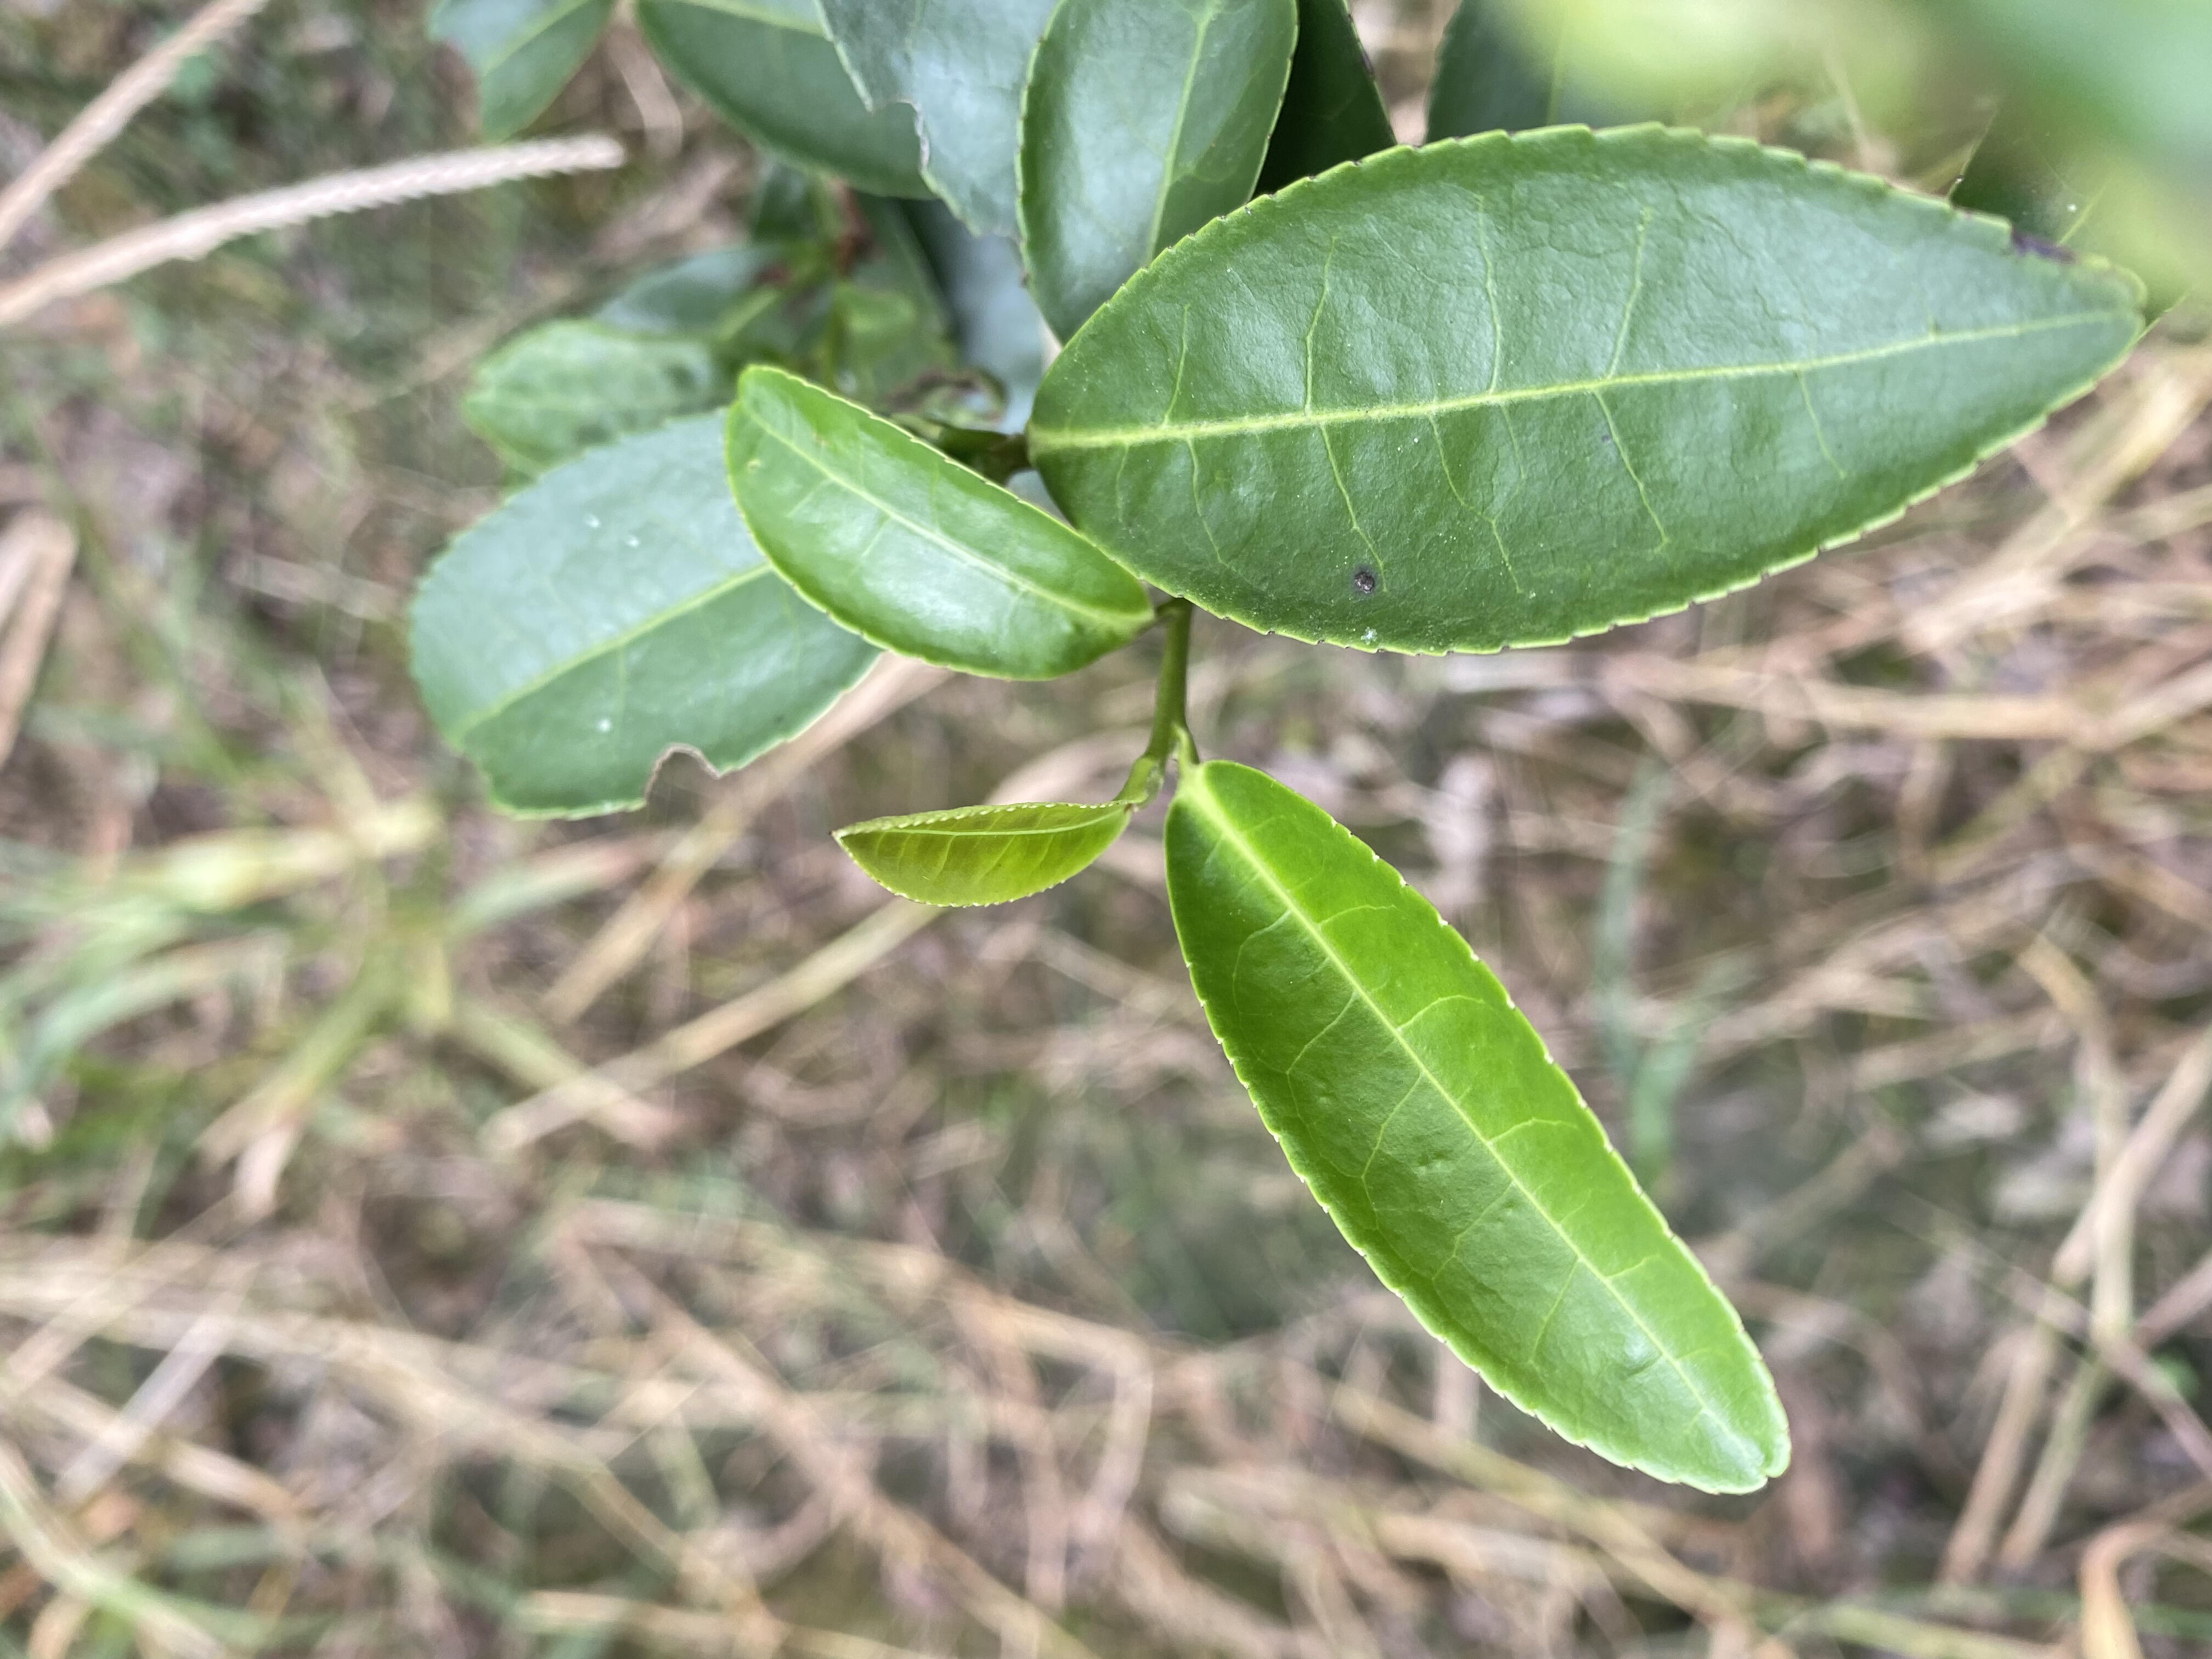chihuo_low: (406, 401, 864, 817), (815, 3, 1015, 234)
healthy: (1160, 762, 1794, 1497), (719, 359, 1153, 687), (1019, 2, 1296, 342), (840, 802, 1141, 906)
tanju_low: (1017, 117, 2153, 657)
